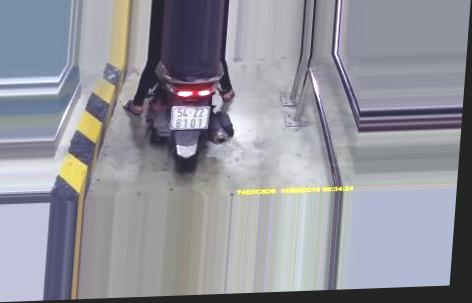License_Plate: (167, 103, 214, 133)
